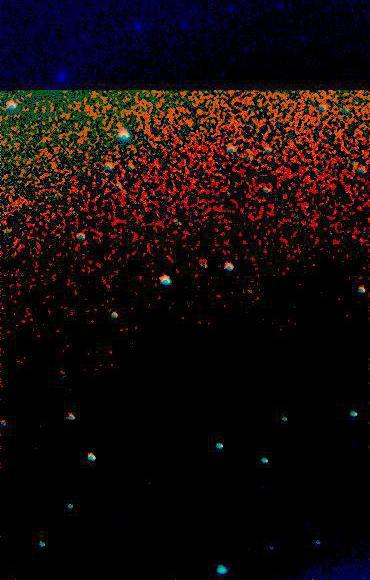star: (95, 336, 125, 366)
